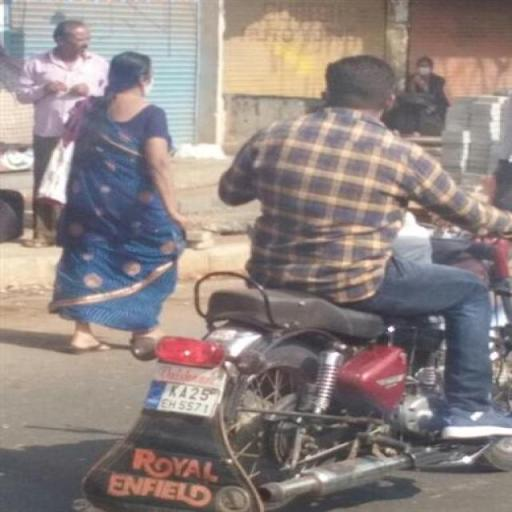using mobile: (300, 94, 338, 116)
